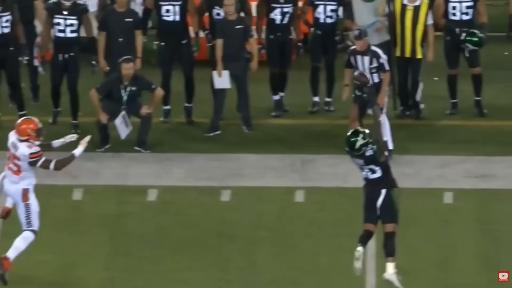Helmet: (346, 128, 371, 154), (15, 117, 42, 141), (463, 30, 484, 49), (60, 0, 75, 7)
Jersey: (46, 0, 88, 53), (5, 131, 42, 187), (350, 146, 397, 189), (155, 0, 189, 41), (266, 0, 297, 35), (311, 0, 340, 33), (445, 0, 477, 28), (0, 1, 16, 50), (204, 0, 224, 39), (205, 0, 224, 39)
Player: (0, 117, 90, 285), (346, 105, 402, 287), (42, 0, 93, 133), (146, 0, 198, 124), (435, 0, 487, 116), (256, 0, 299, 117), (301, 0, 341, 113), (0, 0, 26, 117), (236, 0, 252, 21)
